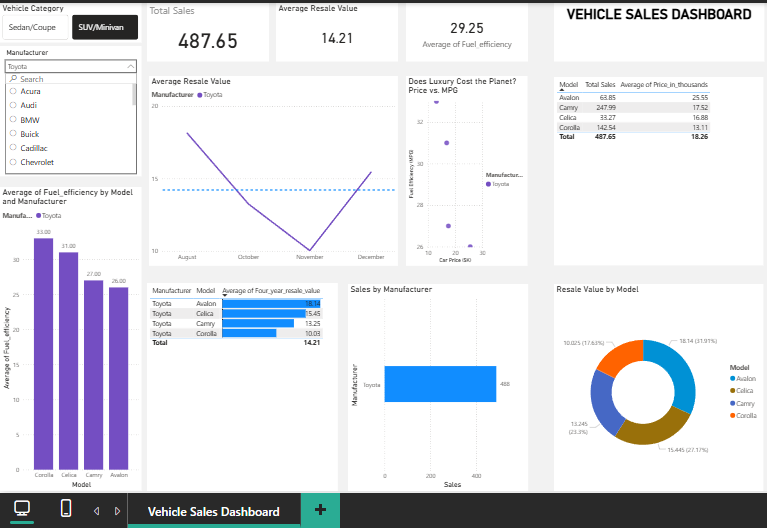

This screenshot's page, from the dashboard's own definition file:
{"tool":"powerbi","page":{"name":"Sales Overview","canvas":[1600,1000],"ordinal":0},"visuals":[{"type":"shape","box":[0,0,301.1,1000],"z":0},{"type":"advancedSlicerVisual","fields":{"Values":["sales_db car_sales.Vehicle_type (groups)"]},"box":[0,0,289.9,80.9],"z":1000},{"type":"card","title":"Total Sales","fields":{"Values":["Sum(sales_db car_sales.Sales_in_thousands)"]},"box":[301.1,0,250,120],"z":2000},{"type":"clusteredBarChart","fields":{"Y":["Sum(sales_db car_sales.Sales_in_thousands)"],"Category":["sales_db car_sales.Manufacturer"]},"box":[712.4,575.3,388.8,424.7],"z":3000},{"type":"tableEx","fields":{"Values":["sales_db car_sales.Manufacturer","sales_db car_sales.Model","Avg(sales_db car_sales.Four_year_resale_value)"]},"box":[301.1,573,391,427],"z":4000},{"type":"tableEx","fields":{"Values":["sales_db car_sales.Model","Sum(sales_db car_sales.Sales_in_thousands)","Avg(sales_db car_sales.Price_in_thousands)"]},"box":[1134.7,151,428.6,385.7],"z":5000},{"type":"lineChart","title":"Average Resale Value","fields":{"Category":["sales_db car_sales.Latest_Launch.Variation.Date Hierarchy.Year","sales_db car_sales.Latest_Launch.Variation.Date Hierarchy.Quarter","sales_db car_sales.Latest_Launch.Variation.Date Hierarchy.Month","sales_db car_sales.Latest_Launch.Variation.Date Hierarchy.Day"],"Y":["Avg(sales_db car_sales.Four_year_resale_value)"],"Series":["sales_db car_sales.Manufacturer"]},"box":[305.6,150.6,510.1,388.8],"z":6000},{"type":"scatterChart","title":"Does Luxury Cost the Planet? Price vs. MPG","fields":{"X":["Avg(sales_db car_sales.Price_in_thousands)"],"Y":["Avg(sales_db car_sales.Fuel_efficiency)"],"Category":["sales_db car_sales.Model"],"Series":["sales_db car_sales.Manufacturer"]},"box":[831.5,150.6,249.4,388.8],"z":7000},{"type":"clusteredColumnChart","fields":{"Category":["sales_db car_sales.Model"],"Y":["Avg(sales_db car_sales.Fuel_efficiency)"],"Series":["sales_db car_sales.Manufacturer"]},"box":[0,377.5,289.9,622.5],"z":8000},{"type":"card","fields":{"Values":["Avg(sales_db car_sales.Fuel_efficiency)"]},"box":[831.5,0,250,120],"z":9000},{"type":"slicer","fields":{"Values":["sales_db car_sales.Manufacturer"]},"box":[0,87.6,289.9,267.4],"z":10000},{"type":"card","title":"Average Resale Value","fields":{"Values":["Avg(sales_db car_sales.Four_year_resale_value)"]},"box":[566.3,0,250,120],"z":11000},{"type":"textbox","box":[1134.7,0,430.6,120.4],"z":12000},{"type":"donutChart","fields":{"Category":["sales_db car_sales.Model"],"Y":["Sum(sales_db car_sales.Four_year_resale_value)"]},"box":[1135,575,429,425],"z":13000}]}

Visuals, with their boxes in screenshot pixels (x1, y1, x2, y2):
shape: rect(0, 0, 106, 490)
advancedSlicerVisual - sales_db car_sales.Vehicle_type (groups): rect(0, 0, 100, 40)
"Total Sales" card: rect(106, 0, 228, 59)
clusteredBarChart - Sum(sales_db car_sales.Sales_in_thousands) x sales_db car_sales.Manufacturer: rect(307, 282, 498, 490)
tableEx - sales_db car_sales.Manufacturer x sales_db car_sales.Model: rect(106, 281, 297, 490)
tableEx - sales_db car_sales.Model x Sum(sales_db car_sales.Sales_in_thousands): rect(514, 74, 724, 263)
"Average Resale Value" lineChart: rect(108, 74, 358, 264)
"Does Luxury Cost the Planet? Price vs. MPG" scatterChart: rect(366, 74, 488, 264)
clusteredColumnChart - sales_db car_sales.Model x Avg(sales_db car_sales.Fuel_efficiency): rect(0, 185, 100, 490)
card - Avg(sales_db car_sales.Fuel_efficiency): rect(366, 0, 488, 59)
slicer - sales_db car_sales.Manufacturer: rect(0, 43, 100, 174)
"Average Resale Value" card: rect(236, 0, 358, 59)
textbox: rect(514, 0, 725, 59)
donutChart - sales_db car_sales.Model x Sum(sales_db car_sales.Four_year_resale_value): rect(514, 282, 725, 490)
